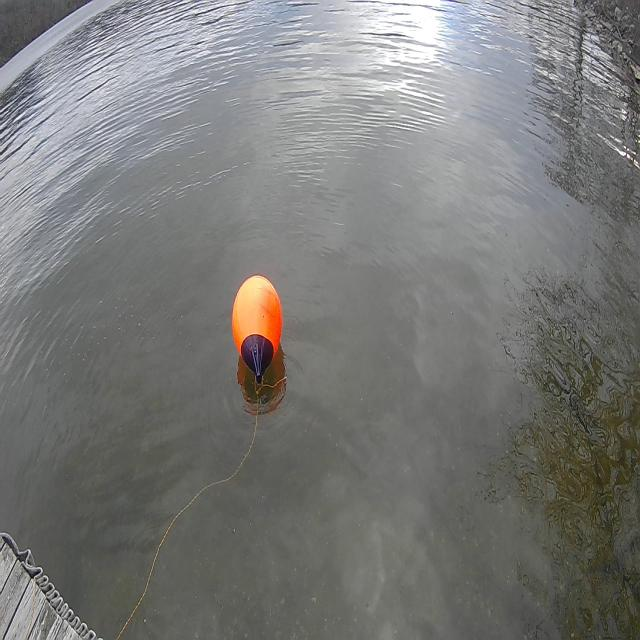Buoy: (230, 267, 287, 397)
